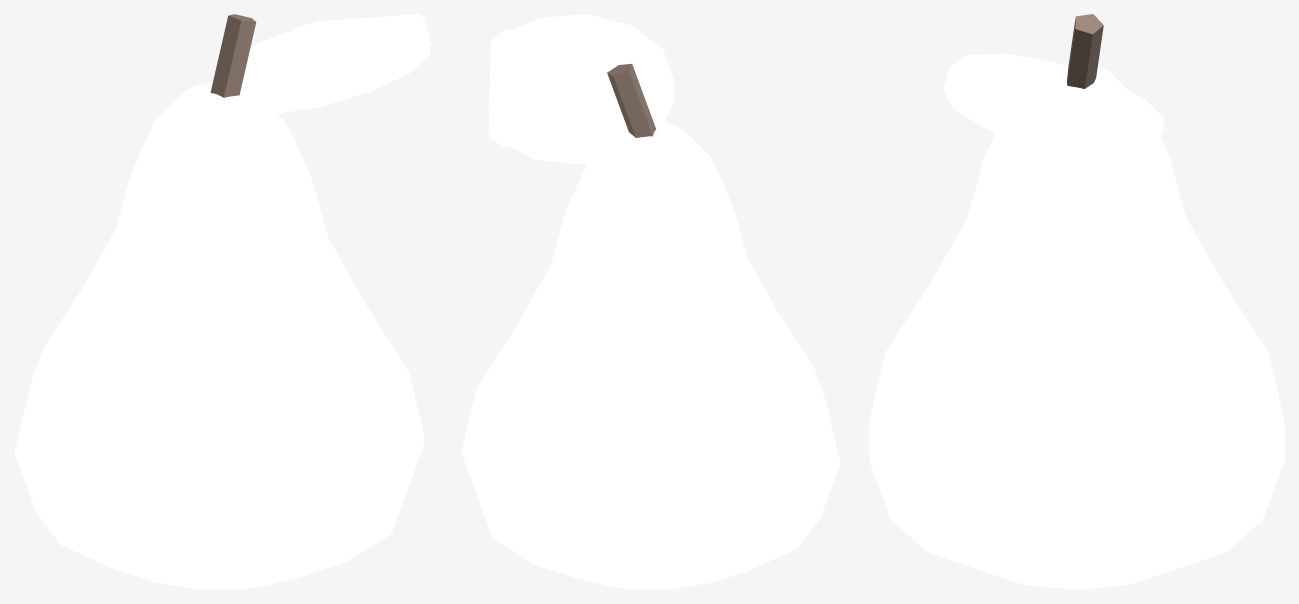
File: fruit_2.glb
3 views of the same model, side by side, from view 1: azimuth 30°, elevation 25°; view 2: azimuth 150°, elevation 25°; view 3: azimuth 270°, elevation 25° (orthographic). The views are drawn at different scales.
Visible parts, largest first — view 1: fruit_2; view 2: fruit_2; view 3: fruit_2.
Boxes of the visible parts, x1,y1,x2,y2 form: fruit_2: (14,14,432,589); fruit_2: (461,14,840,589); fruit_2: (869,14,1284,589).
Size of the model in its own units: 0.392 by 0.5288 by 0.3705.
